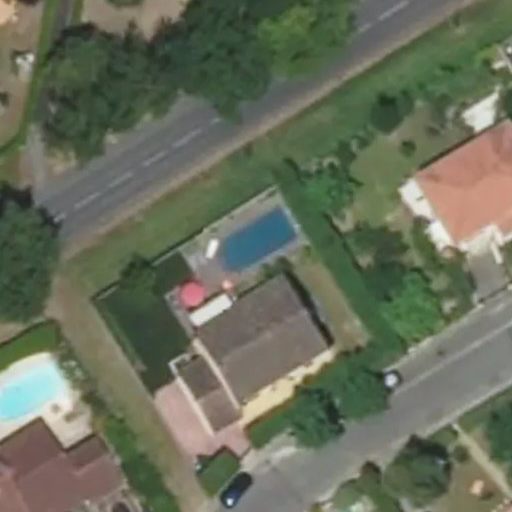pool: (215, 205, 299, 271), (1, 358, 63, 422)
